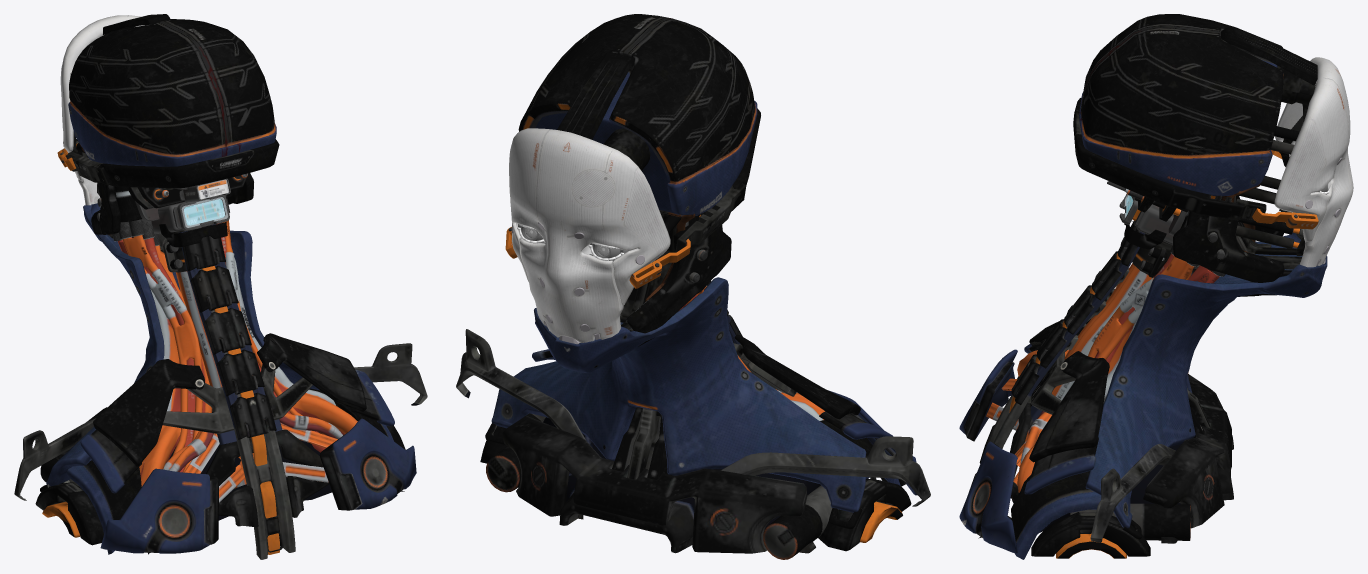
File: adamHead.gltf
3 views of the same model, side by side, from view 1: azimuth 30°, elevation 25°; view 2: azimuth 150°, elevation 25°; view 3: azimuth 270°, elevation 25° (orthographic). The views are drawn at different scales.
Parts seen in each view (by area): view 1: node_Object001_-5720, node_cables_-5610, node_mesh_Adam_spine_-5718, node_Adam_BloodyHeadBracket_-5606, node_mesh_Adam_mask_-5716, node_Adam_monitor_back_-5608; view 2: node_Object001_-5720, node_mesh_Adam_mask_-5716; view 3: node_Object001_-5720, node_mesh_Adam_mask_-5716, node_cables_-5610, node_Adam_BloodyHeadBracket_-5606, node_mesh_Adam_spine_-5718.
Part boxes in pixels (<box>): node_Object001_-5720: <box>14,14,427,554</box>; node_cables_-5610: <box>122,220,357,486</box>; node_mesh_Adam_spine_-5718: <box>178,224,295,559</box>; node_Adam_BloodyHeadBracket_-5606: <box>100,139,279,188</box>; node_mesh_Adam_mask_-5716: <box>60,15,144,205</box>; node_Adam_monitor_back_-5608: <box>184,199,225,225</box>; node_Object001_-5720: <box>456,14,930,559</box>; node_mesh_Adam_mask_-5716: <box>509,128,670,344</box>; node_Object001_-5720: <box>959,14,1327,559</box>; node_mesh_Adam_mask_-5716: <box>1274,57,1353,267</box>; node_cables_-5610: <box>1013,253,1194,492</box>; node_Adam_BloodyHeadBracket_-5606: <box>1073,98,1184,205</box>; node_mesh_Adam_spine_-5718: <box>981,231,1144,460</box>.
Size of the model in its own units: 3.76 by 3.99 by 2.98.
13 materials, 7 textured.
